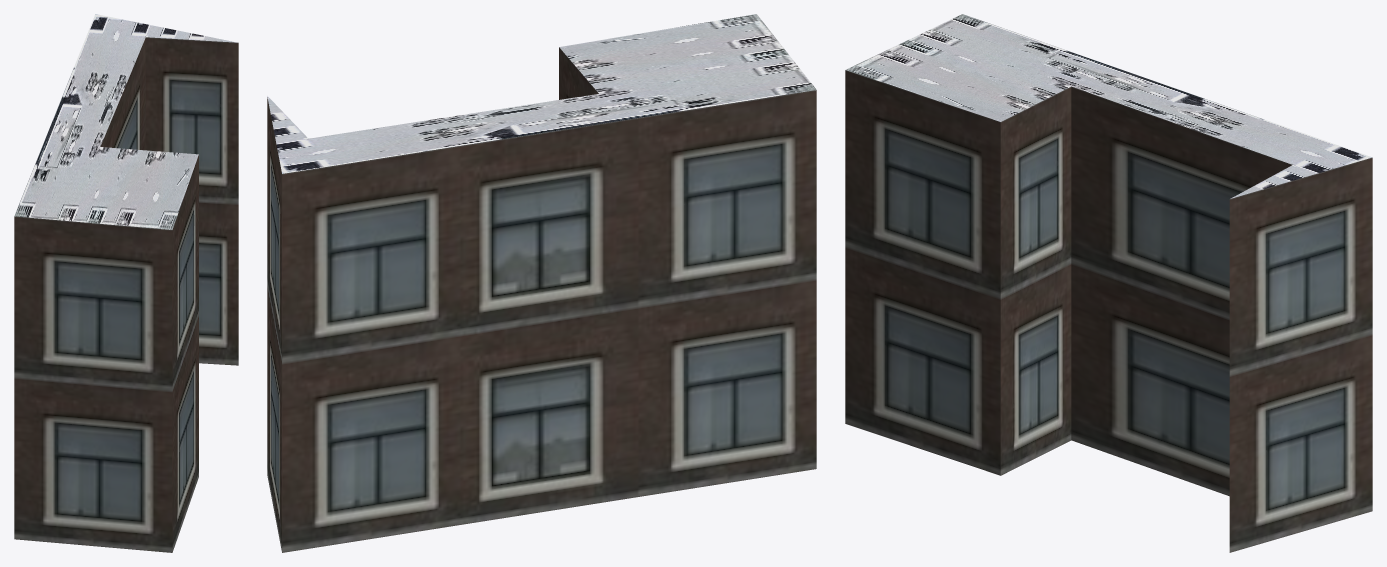
File: ResTex__2170.fbx
3 views of the same model, side by side, from view 1: azimuth 30°, elevation 25°; view 2: azimuth 150°, elevation 25°; view 3: azimuth 270°, elevation 25° (orthographic). The views are drawn at different scales.
Parts seen in each view (by area): view 1: CityEngineMaterial_16_m, CityEngineMaterial_15_m; view 2: CityEngineMaterial_16_m, CityEngineMaterial_15_m; view 3: CityEngineMaterial_16_m, CityEngineMaterial_15_m.
Part boxes in pixels (x1=…): CityEngineMaterial_16_m: x1=14, y1=37, x2=238, y2=552; CityEngineMaterial_15_m: x1=14, y1=14, x2=236, y2=229; CityEngineMaterial_16_m: x1=267, y1=47, x2=816, y2=552; CityEngineMaterial_15_m: x1=267, y1=14, x2=816, y2=173; CityEngineMaterial_16_m: x1=845, y1=70, x2=1372, y2=552; CityEngineMaterial_15_m: x1=846, y1=14, x2=1372, y2=198.
Bounding box in the file's own units: 6.74 × 6 × 8.11.
2 materials, 2 textured.
